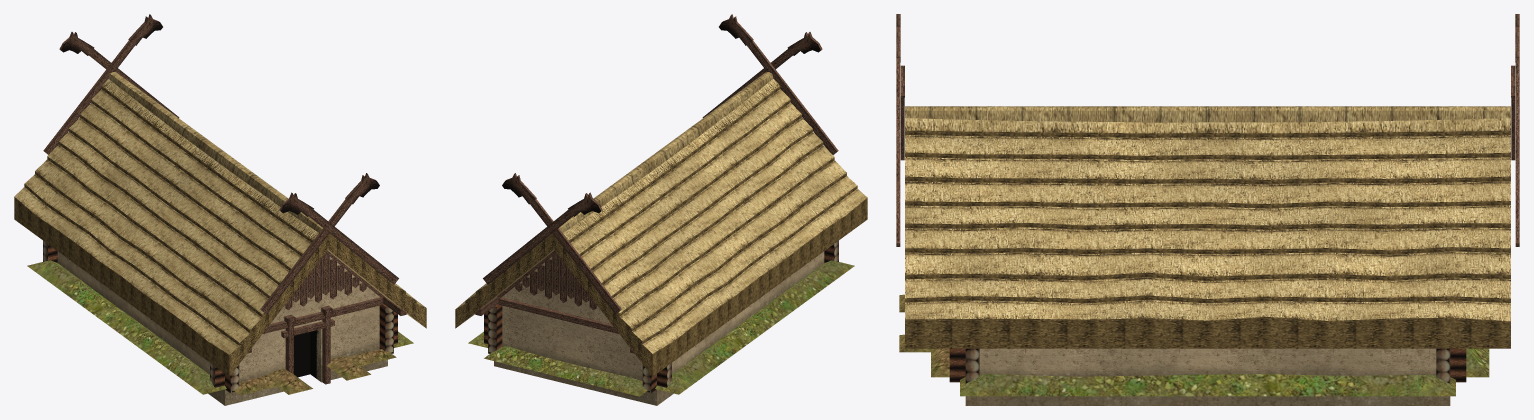
The model's file is dvorec.glb.
3 renders of one model, left to right at view 1: azimuth 30°, elevation 25°; view 2: azimuth 150°, elevation 25°; view 3: azimuth 270°, elevation 25°, orthographic. The views are drawn at different scales.
Parts seen in each view (by area): view 1: dvorec; view 2: dvorec; view 3: dvorec.
Boxes of the visible parts, left/top/right/bottom form: dvorec: left=14, top=14, right=426, bottom=405; dvorec: left=455, top=14, right=867, bottom=405; dvorec: left=896, top=14, right=1519, bottom=405.
Size of the model in its own units: 5.95 by 5.92 by 10.8.
Materials: 1 (1 with a texture image).
